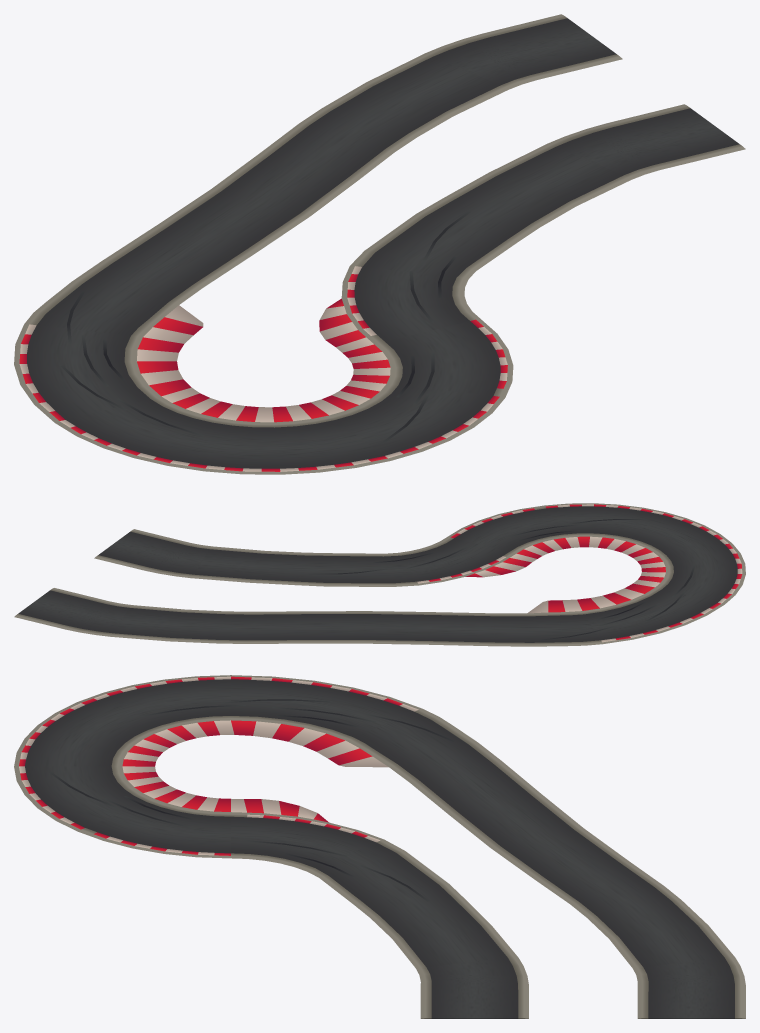
Rendered from Special_1B.fbx.
The picture shows the model from 3 angles, top to bottom: view 1: azimuth 30°, elevation 25°; view 2: azimuth 150°, elevation 25°; view 3: azimuth 270°, elevation 25°; orthographic projection. The views are drawn at different scales.
Visible parts, largest first — view 1: Special_1B, Special_1B_Skidmarks; view 2: Special_1B, Special_1B_Skidmarks; view 3: Special_1B, Special_1B_Skidmarks.
Boxes of the visible parts, x1,y1,x2,y2 form: Special_1B: (14, 14, 745, 474); Special_1B_Skidmarks: (61, 211, 470, 442); Special_1B: (14, 503, 745, 646); Special_1B_Skidmarks: (308, 519, 695, 640); Special_1B: (14, 675, 745, 1018); Special_1B_Skidmarks: (49, 699, 454, 901).
Bounding box in the file's own units: 15000 × 10.4 × 13500.
